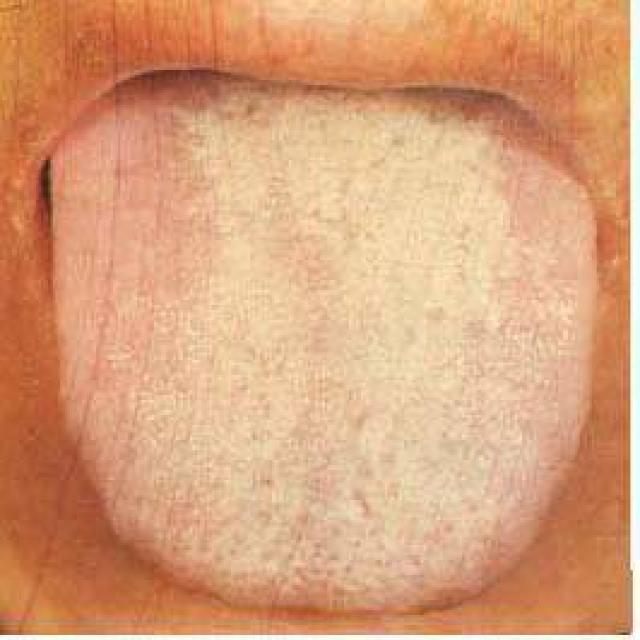tongue: (36, 78, 605, 620)
